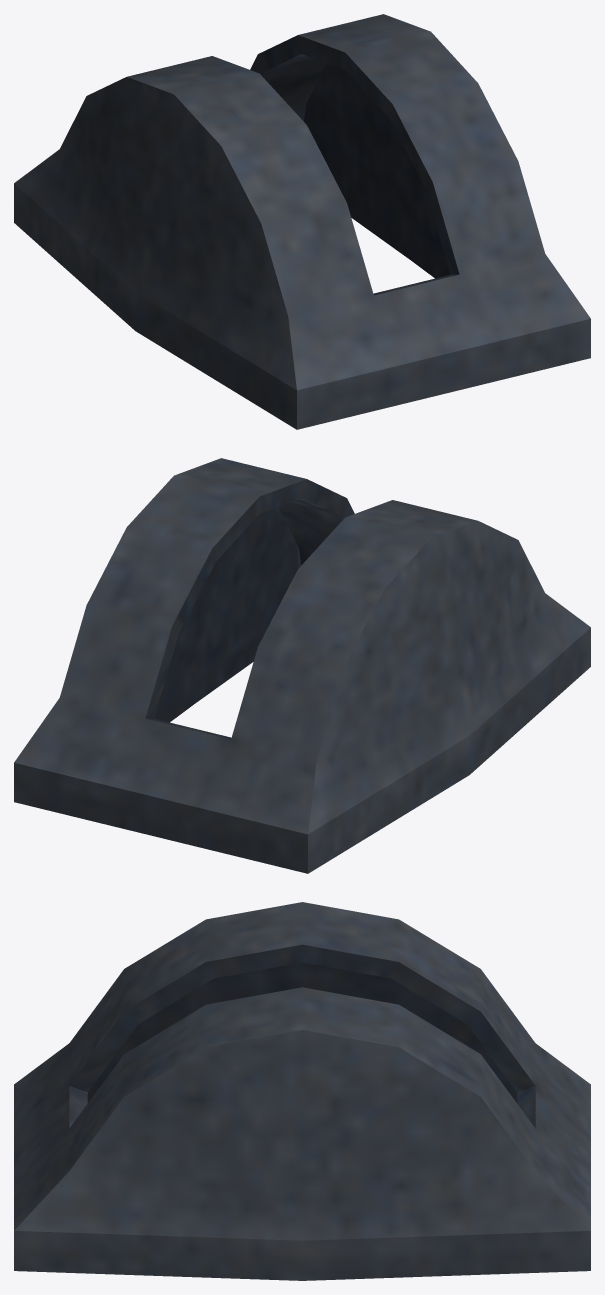
File: lever_cover.obj
3 renders of one model, top to bottom at view 1: azimuth 30°, elevation 25°; view 2: azimuth 150°, elevation 25°; view 3: azimuth 270°, elevation 25°, orthographic.
Parts seen in each view (by area): view 1: cover; view 2: cover; view 3: cover.
Part boxes in pixels (<box>): cover: <box>14,14,590,429</box>; cover: <box>14,458,590,873</box>; cover: <box>14,902,590,1280</box>.
Size of the model in its own units: 0.507 by 0.3299 by 0.7439.
Materials: 1 (1 with a texture image).
